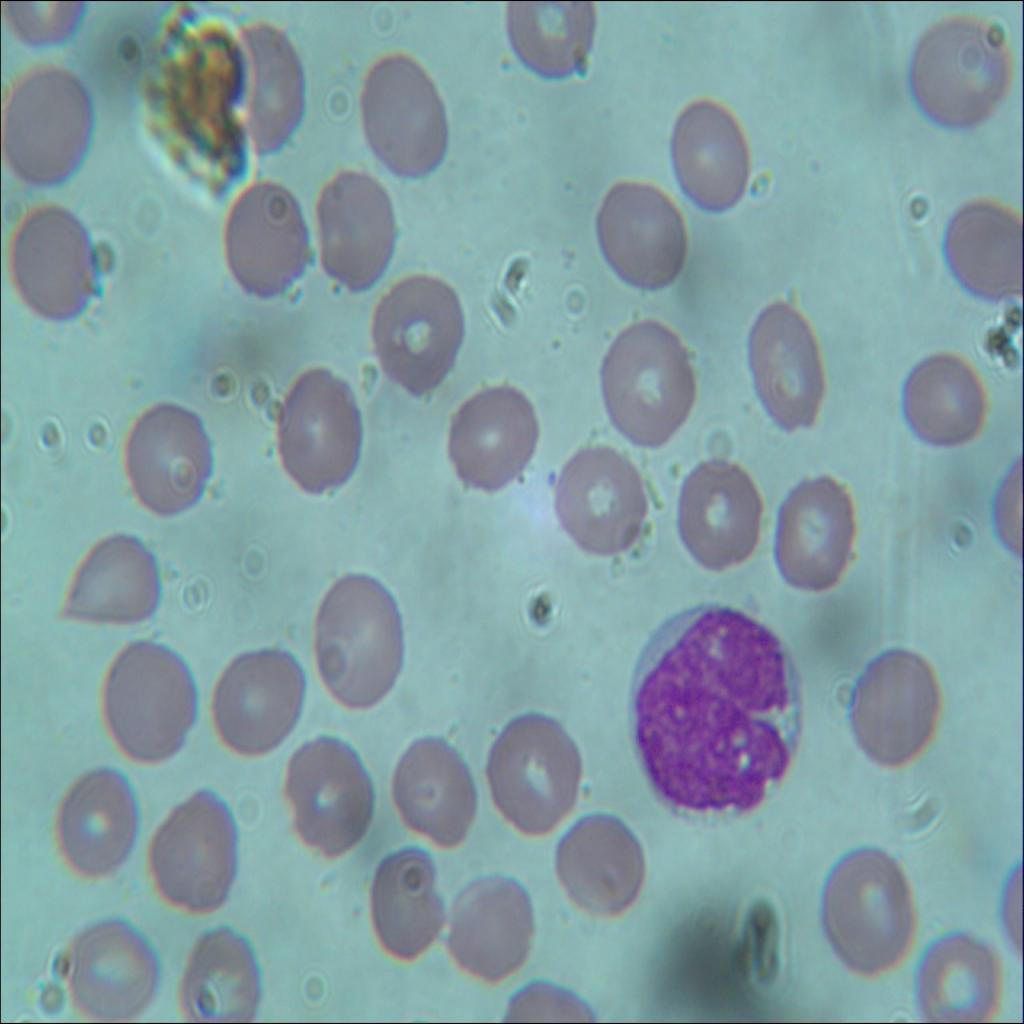Eritrosit: (95, 638, 201, 770), (594, 314, 698, 448), (482, 704, 586, 838), (210, 21, 312, 157), (364, 272, 466, 407), (0, 65, 109, 189), (215, 168, 315, 302), (139, 784, 242, 912), (902, 15, 1014, 132), (821, 838, 913, 980), (4, 191, 103, 322), (356, 52, 453, 185), (270, 371, 366, 505), (548, 440, 654, 559), (279, 731, 382, 851), (386, 731, 488, 852), (744, 294, 826, 444), (593, 177, 693, 299), (56, 912, 163, 1023), (853, 641, 944, 771), (123, 392, 214, 522), (548, 807, 648, 925), (315, 577, 402, 710), (52, 760, 142, 888), (440, 871, 538, 988), (59, 530, 168, 635), (208, 644, 309, 755), (668, 98, 758, 221), (316, 162, 398, 296), (772, 467, 858, 594), (364, 842, 448, 972), (902, 344, 988, 454), (446, 392, 542, 488), (175, 924, 268, 1023), (908, 924, 998, 1023), (497, 0, 603, 84), (939, 194, 1023, 299)
Limfoblast: (626, 598, 808, 826)
